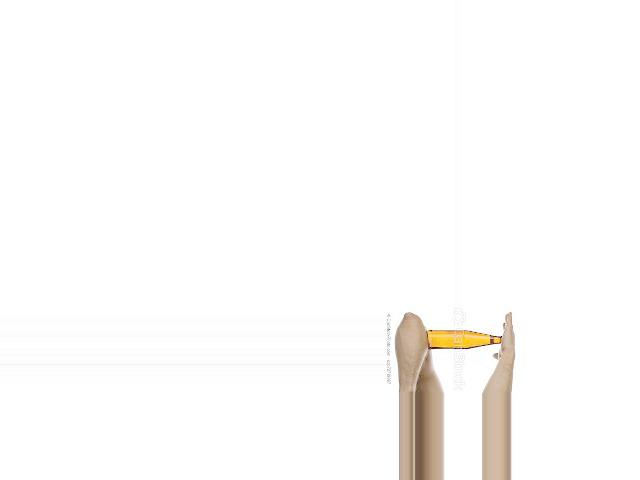beer: (427, 330, 503, 350)
